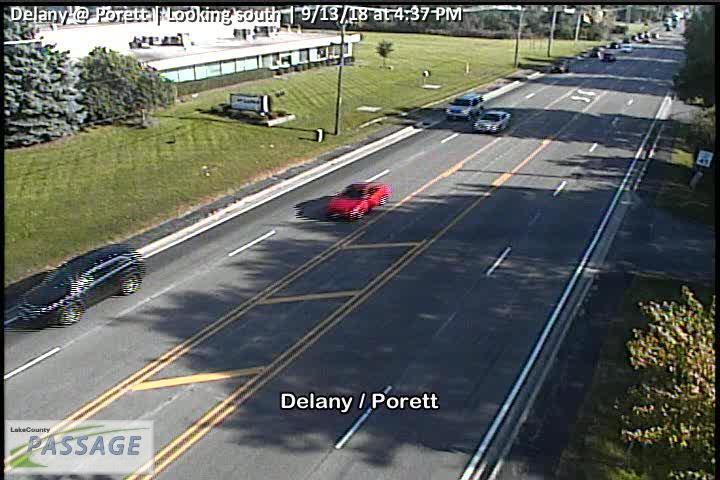SUV: (16, 242, 146, 325), (445, 92, 484, 120)
Sedan: (327, 182, 391, 220), (473, 109, 513, 133)
